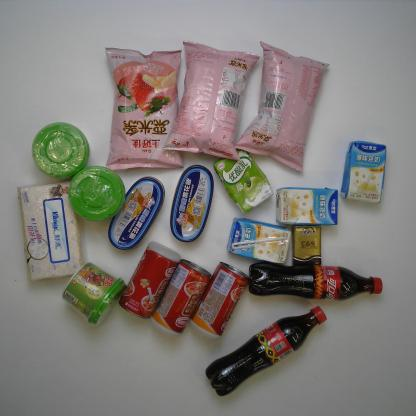Canned Food: (148, 258, 212, 339), (118, 242, 181, 320), (188, 260, 247, 340), (107, 177, 165, 251), (168, 164, 215, 244)
Drink: (204, 306, 327, 397), (247, 262, 383, 301)
Instant Drink: (60, 262, 126, 326), (30, 120, 90, 179), (67, 166, 126, 223)
Milk: (212, 146, 274, 214), (226, 218, 292, 264), (341, 140, 387, 204), (274, 187, 340, 226)
Puffed Food: (232, 40, 330, 172), (162, 39, 260, 161), (98, 45, 188, 174)
Tissue: (16, 179, 89, 285), (290, 225, 323, 267)
